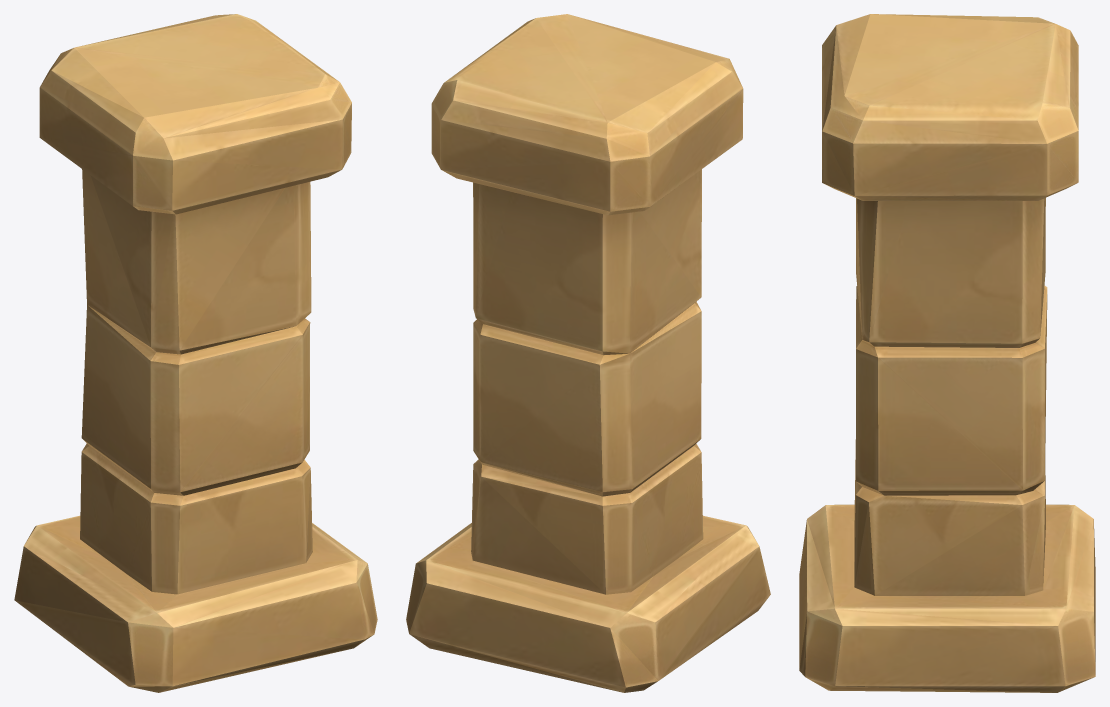
The model's file is pilar-torre.glb.
3 renders of one model, left to right at view 1: azimuth 30°, elevation 25°; view 2: azimuth 150°, elevation 25°; view 3: azimuth 270°, elevation 25°, orthographic. The views are drawn at different scales.
Visible parts, largest first — view 1: Mesh_0; view 2: Mesh_0; view 3: Mesh_0.
Boxes of the visible parts, box(x1,y1,x2,y2) form: Mesh_0: box(14, 14, 377, 692); Mesh_0: box(406, 14, 770, 692); Mesh_0: box(799, 14, 1095, 692).
Size of the model in its own units: 0.9102 by 1.9 by 0.8907.
1 material, 1 textured.
